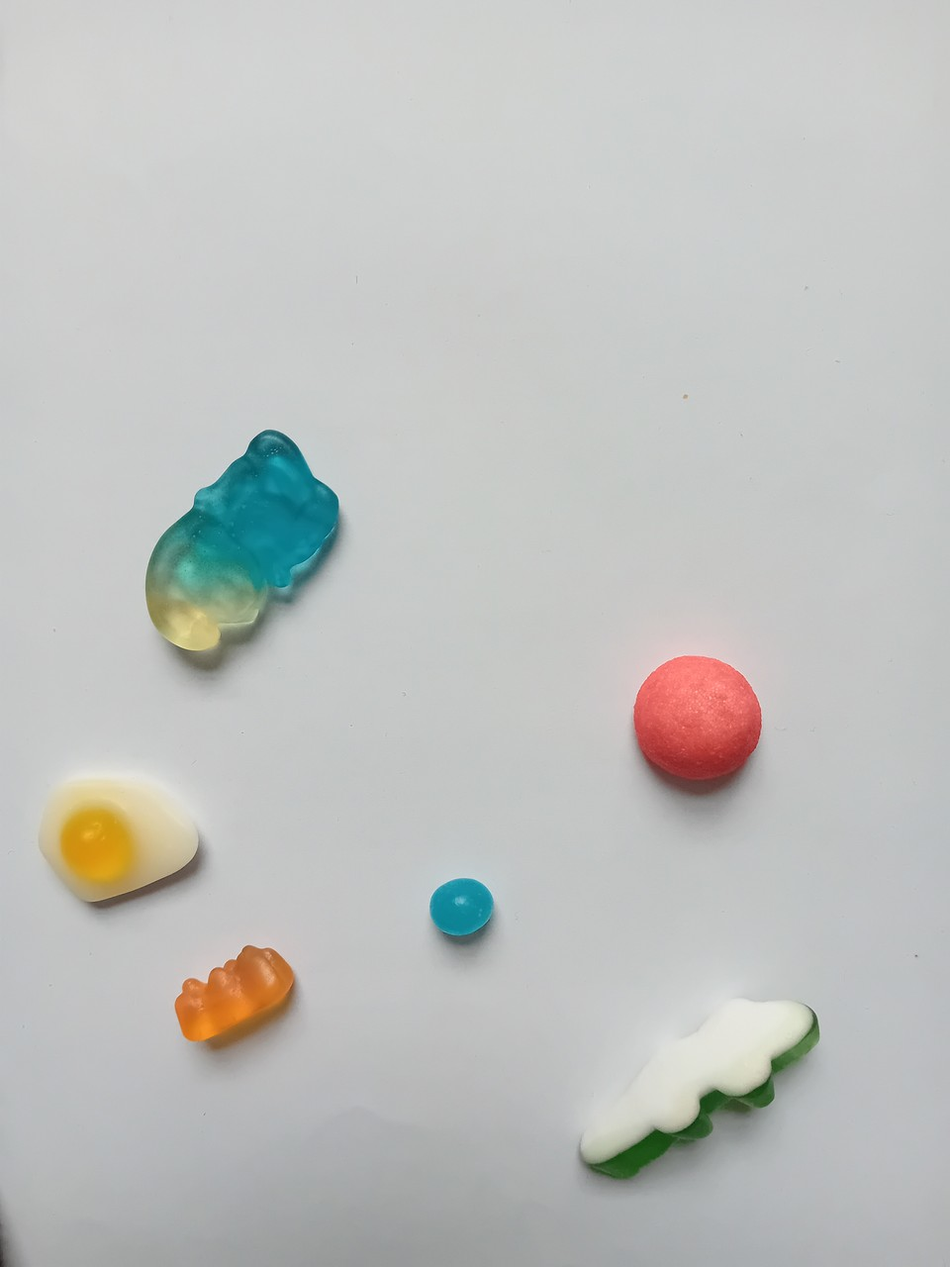crocodile_vert: (570, 992, 824, 1191)
dragibus_bleu: (426, 875, 500, 939)
oeuf_oeuf: (27, 765, 216, 909)
ourson_orangeClair: (167, 939, 300, 1047)
schtroumpf_bleu-blanc: (130, 423, 349, 657)
tagada_fraise: (621, 644, 768, 790)
